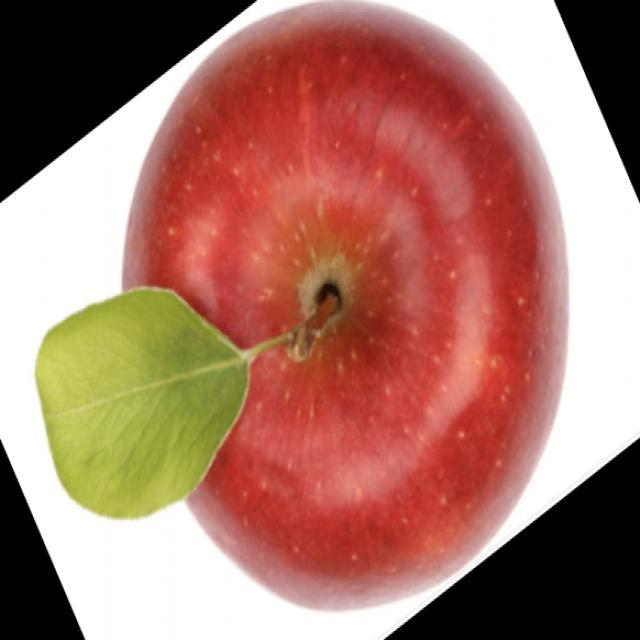Fresh Apple: (115, 9, 572, 618)
